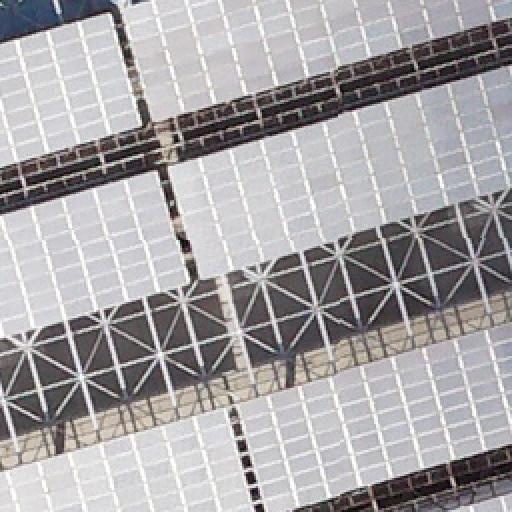solar-panel: (166, 66, 512, 278), (236, 320, 512, 512), (120, 1, 512, 127), (0, 171, 192, 341), (0, 408, 256, 512), (0, 13, 144, 171), (448, 492, 512, 512)
